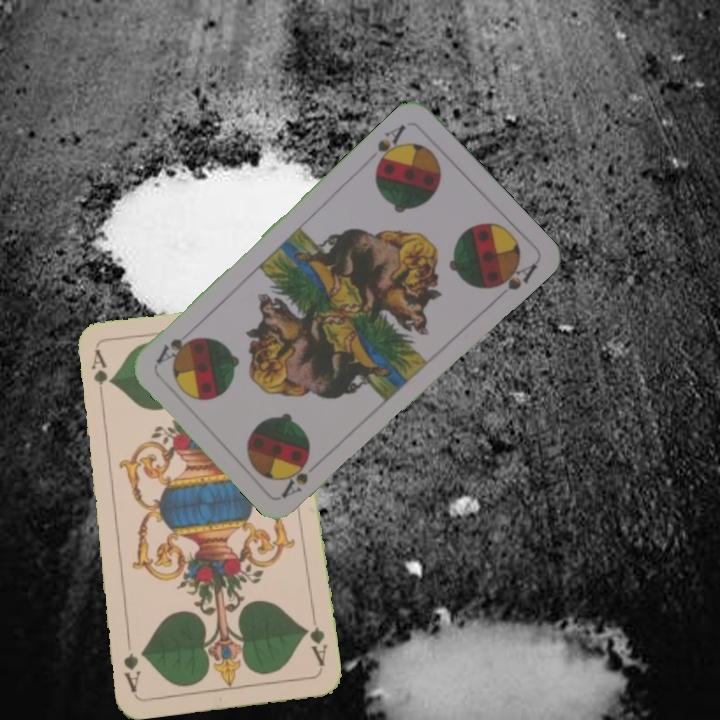GA: (87, 346, 110, 406), (301, 623, 330, 669)
SA: (278, 454, 326, 500), (371, 119, 409, 173)
